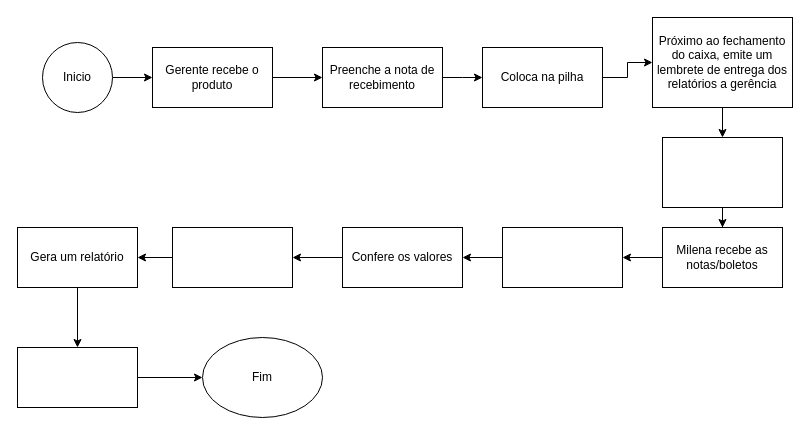
This 810x435 diagram has some shape labels left out. Each missing label, with the centre of its shape:
"Envia para diretoria / financeiro para realizar o pagamento" belongs at [77,377].
"Lança no sistema" belongs at [562,257].
"Organiza por data" belongs at [232,257].
"Só permite o fechamento do caixa após a entrega das notas e relatórios" belongs at [722,172].
